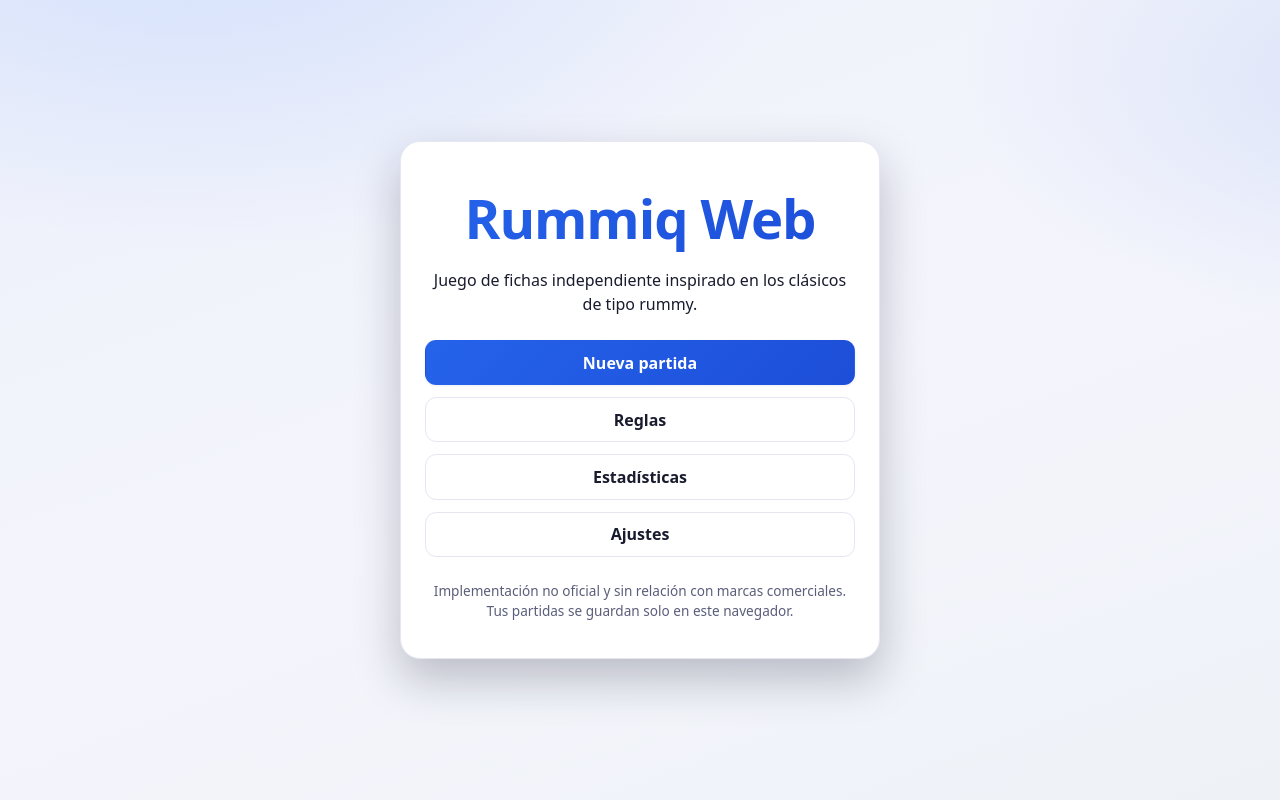
Aplicación (navegación base) › navega a la configuración al pulsar «Nueva partida»
Step 1. Click the button "Nueva partida" → (640, 363), box 425,340 -> 855,385
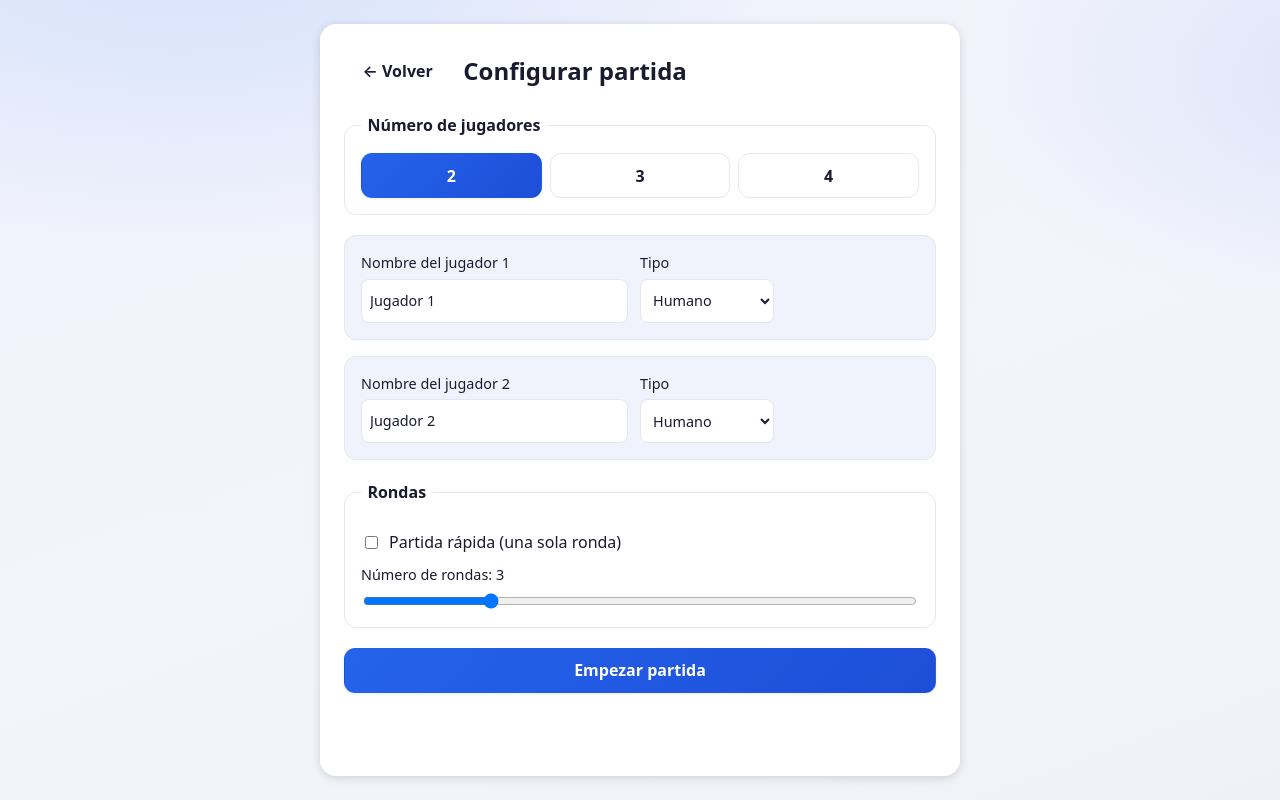
Expected: the heading "Configurar partida" is shown, 463,53 -> 687,89
